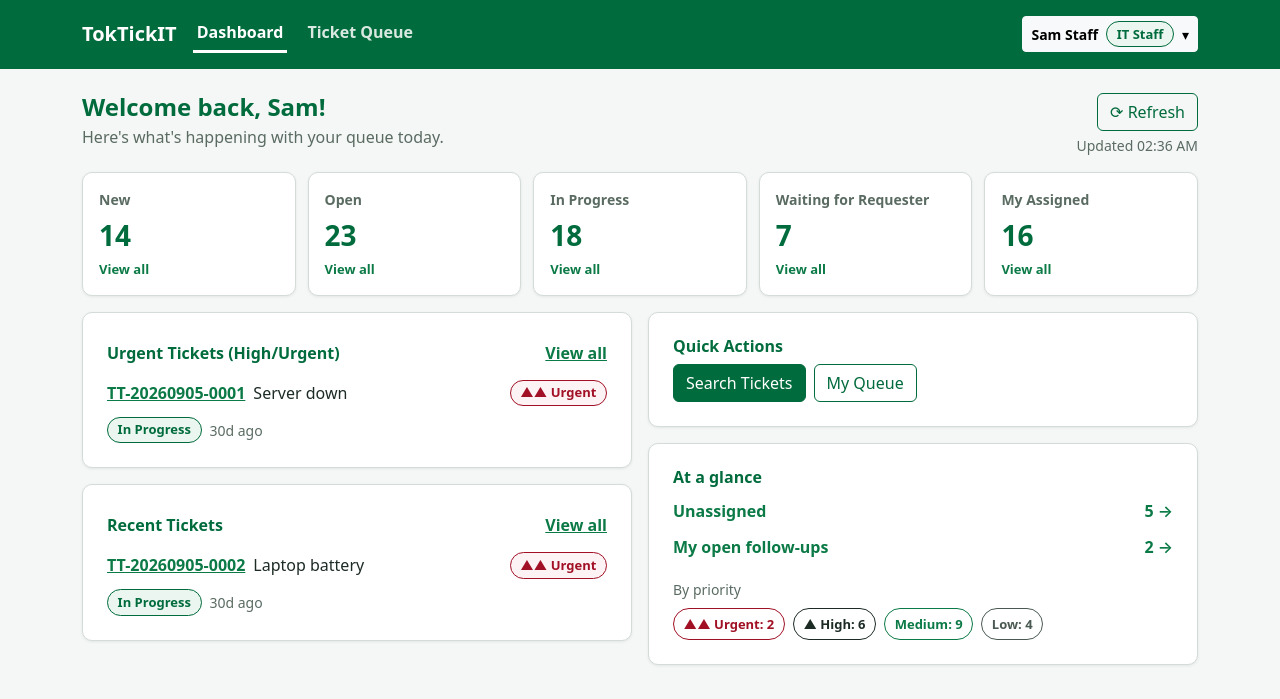
Staff Dashboard — metric cards and drill-down (AC-24, AC-25) › applies a comma-list drill-down (Open,Reopened) as a raw status filter
Expected: the heading "Welcome back, Sam!" is shown, [82, 90, 326, 123]
Click the button with aria-label "Open: 23, view all" at x=414, y=234, box [308, 172, 521, 296]
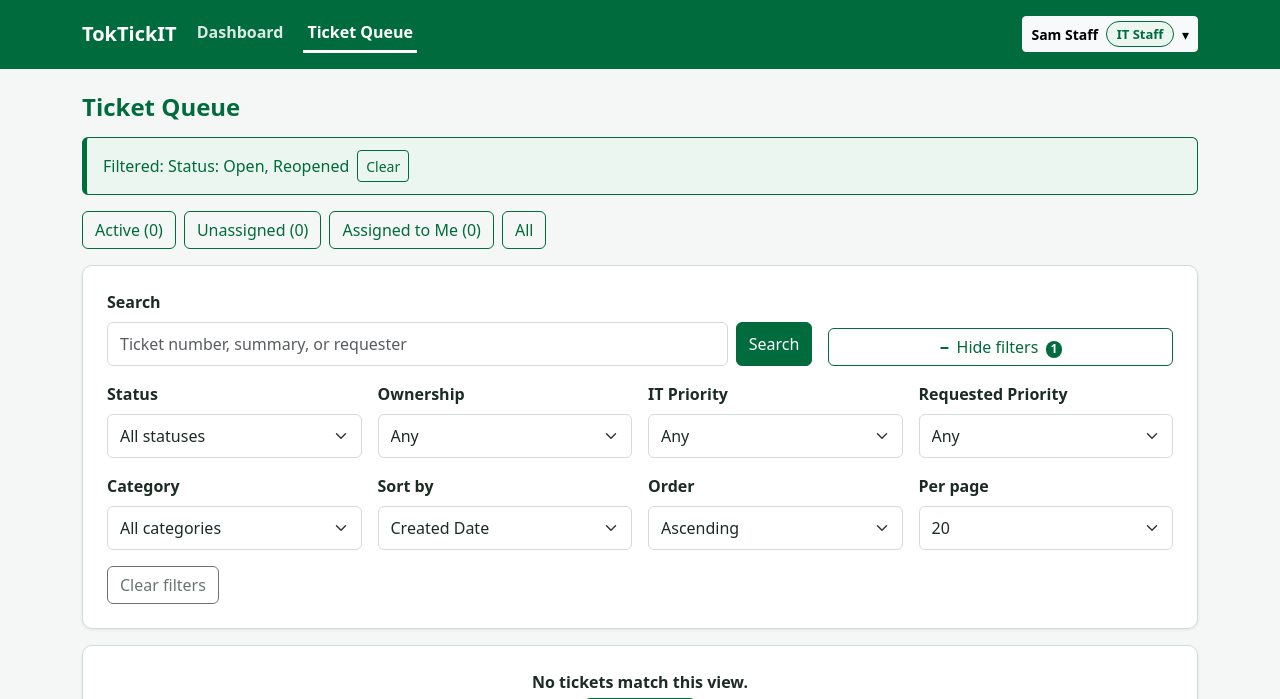
Expected: the heading "Ticket Queue" is shown, [82, 90, 240, 123]
